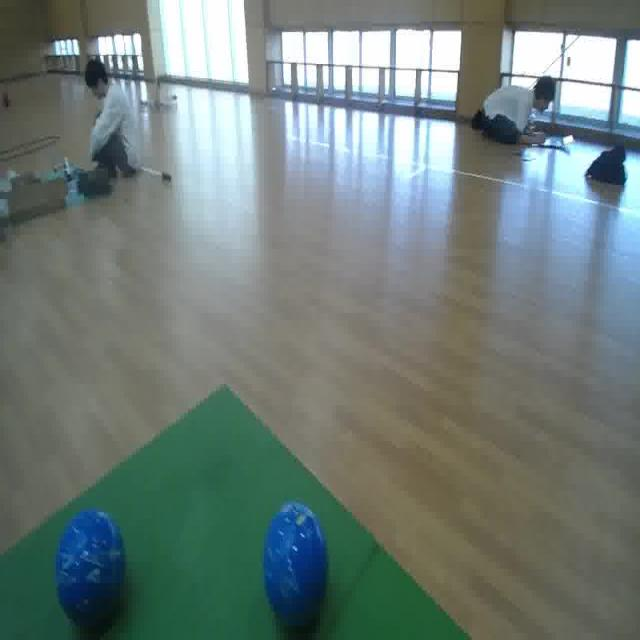blue_ball: (258, 500, 330, 630), (52, 507, 128, 630)
